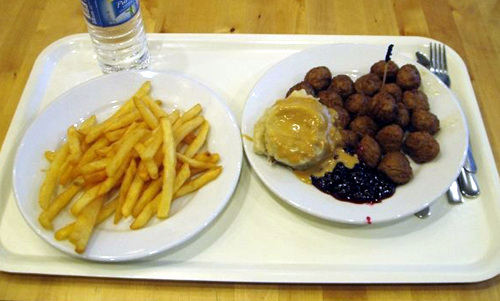meatballs: (317, 66, 448, 171)
